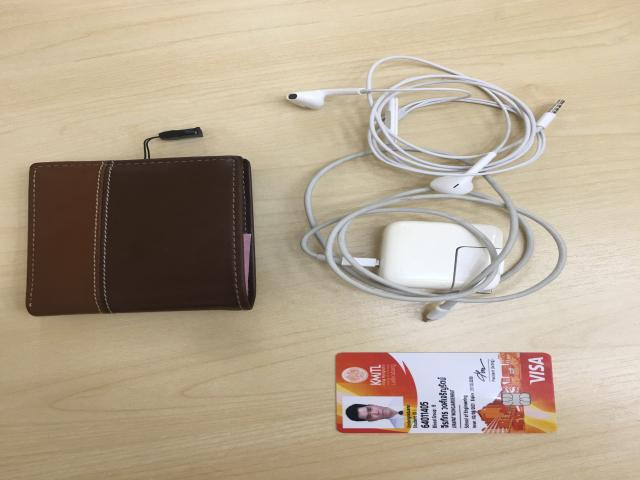Wallet: (23, 156, 257, 319)
wire: (290, 60, 560, 198), (302, 188, 537, 324)
